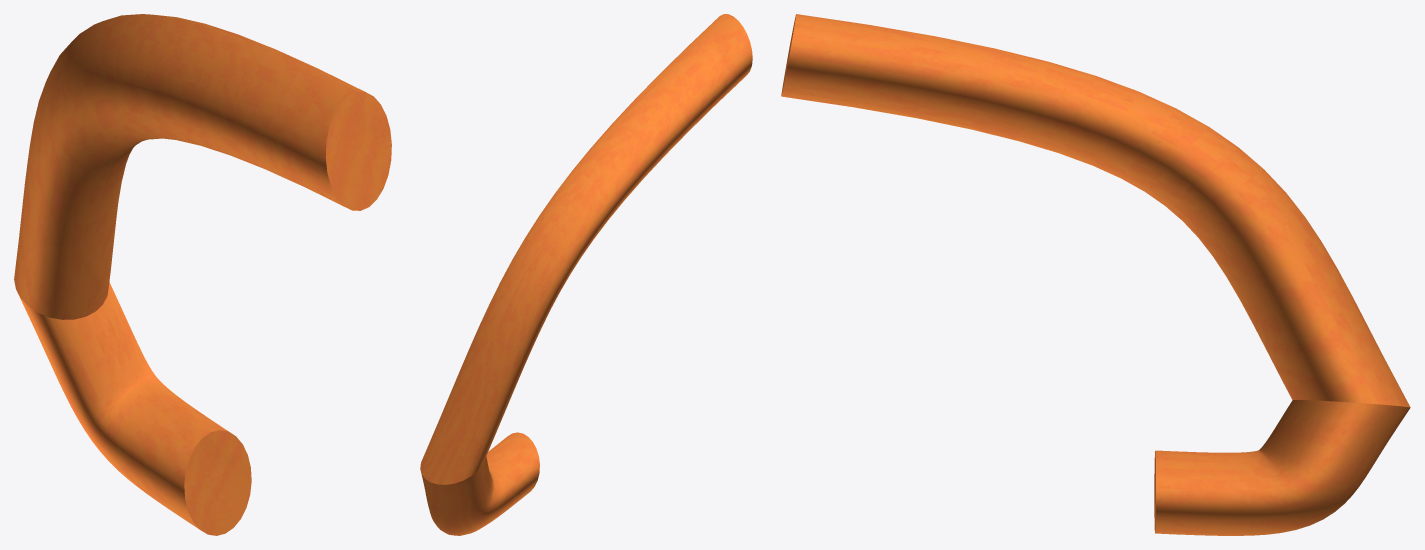
File: original-22.obj
3 renders of one model, left to right at view 1: azimuth 30°, elevation 25°; view 2: azimuth 150°, elevation 25°; view 3: azimuth 270°, elevation 25°, orthographic. The views are drawn at different scales.
Parts seen in each view (by area): view 1: Group23/mesh12/mesh12-geometry#mesh12-geometry; view 2: Group23/mesh12/mesh12-geometry#mesh12-geometry; view 3: Group23/mesh12/mesh12-geometry#mesh12-geometry.
Part boxes in pixels (left/top/right/bottom): Group23/mesh12/mesh12-geometry#mesh12-geometry: left=14, top=14, right=391, bottom=535; Group23/mesh12/mesh12-geometry#mesh12-geometry: left=420, top=14, right=752, bottom=535; Group23/mesh12/mesh12-geometry#mesh12-geometry: left=781, top=14, right=1410, bottom=535.
Size of the model in its own units: 0.0482 by 0.172 by 0.2046.
1 material, 1 textured.
